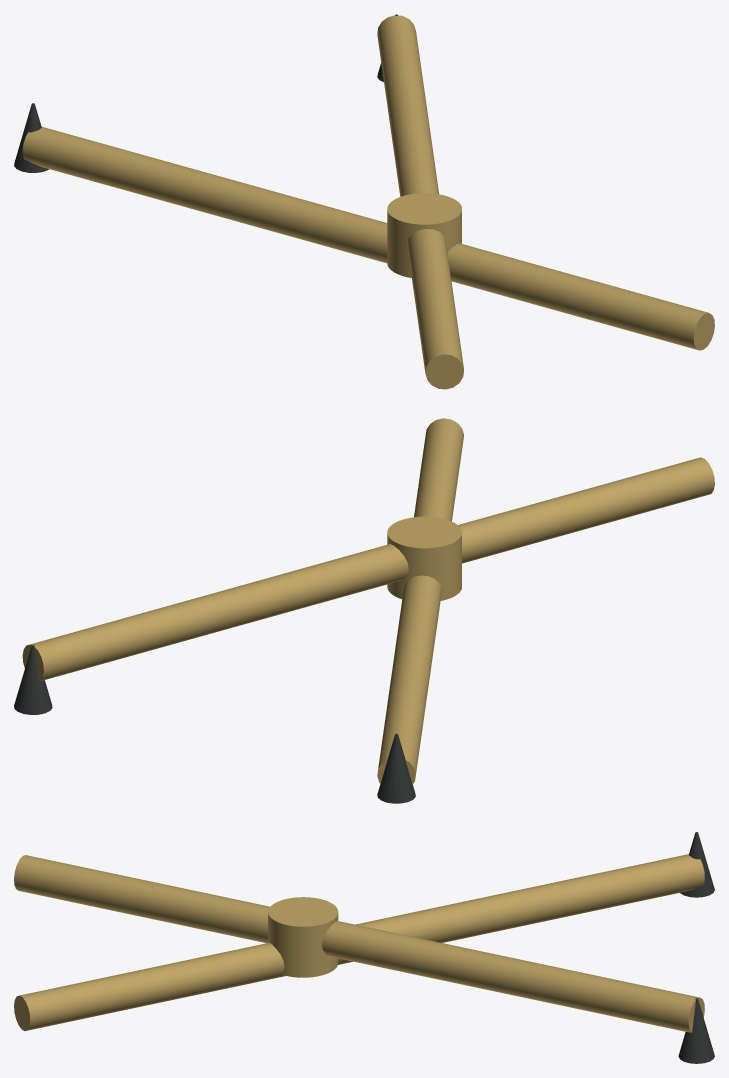
The model's file is fantasy-cartographers-map-printing-guild-proportional--14bc9afe__32231.glb.
3 views of the same model, one above another, from view 1: azimuth 30°, elevation 25°; view 2: azimuth 150°, elevation 25°; view 3: azimuth 270°, elevation 25° (orthographic). The views are drawn at different scales.
Parts seen in each view (by area): view 1: proportional-divider; view 2: proportional-divider; view 3: proportional-divider.
Boxes of the visible parts, x1,y1,x2,y2 form: proportional-divider: [14, 14, 714, 389]; proportional-divider: [14, 418, 714, 803]; proportional-divider: [14, 832, 714, 1063].
Size of the model in its own units: 0.306 by 0.048 by 0.4988.
